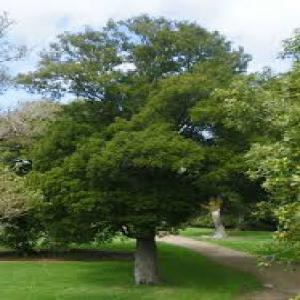Tree: (22, 14, 273, 286)
